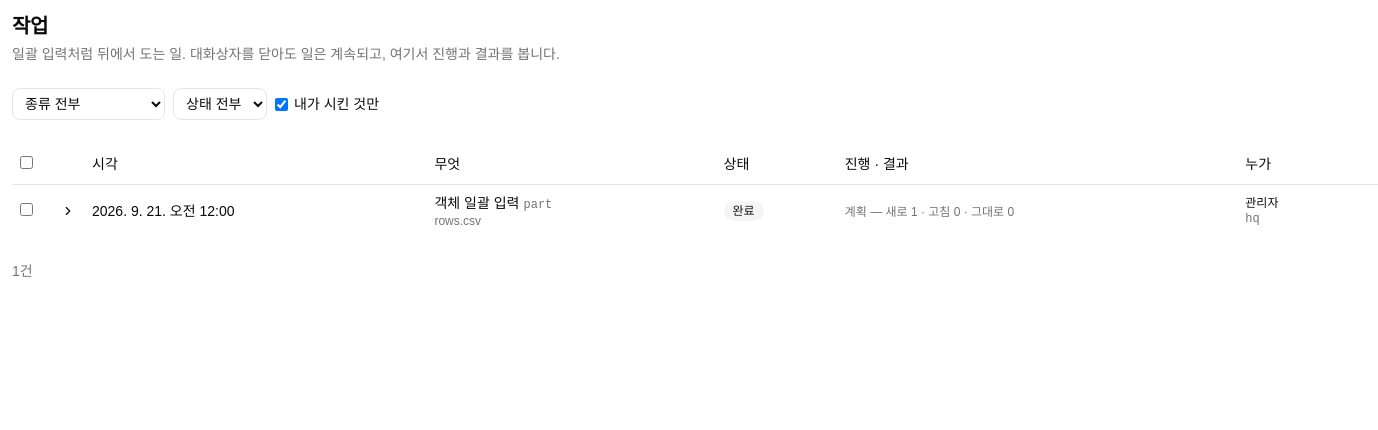
Test: 작업 화면 › 이미 적용한 계획은 「적용」 을 거둔다 — 화면에서 두 번 누르지 않게
Click the button named "펼치기" at [68, 210], box [52, 198, 84, 222]
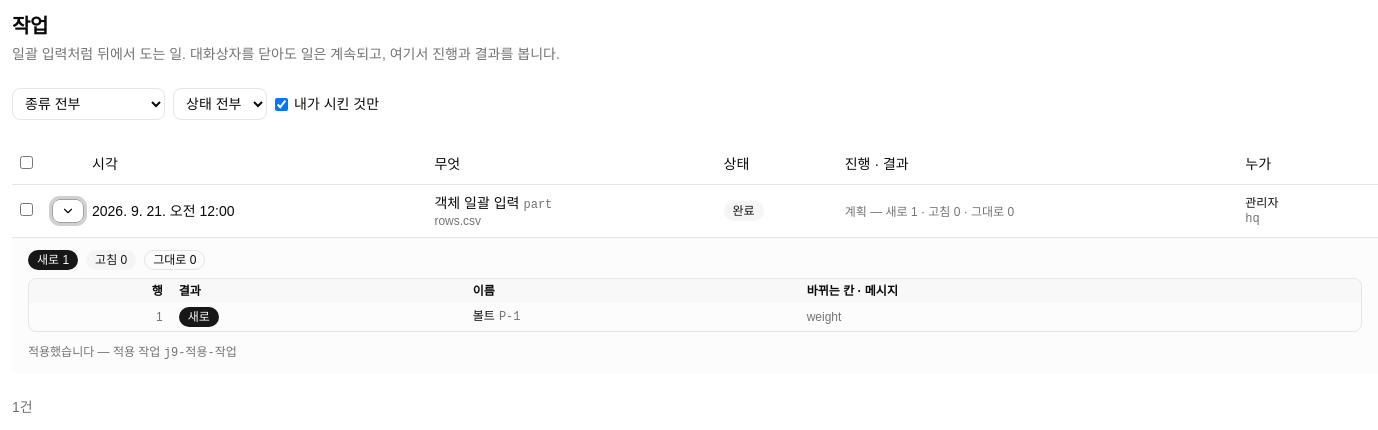
expect the text "적용했습니다 — 적용 작업 j9-적용-작업" is shown: met, box [28, 344, 237, 360]
